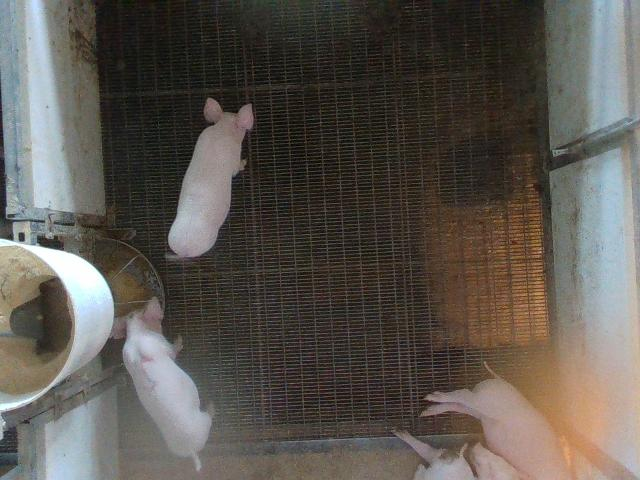pig-5: (111, 296, 211, 469)
